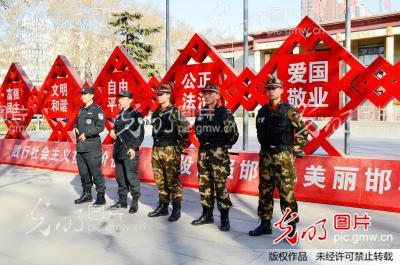up: (245, 78, 309, 243), (191, 82, 239, 233), (147, 81, 192, 223), (108, 90, 146, 216), (69, 85, 107, 207)
